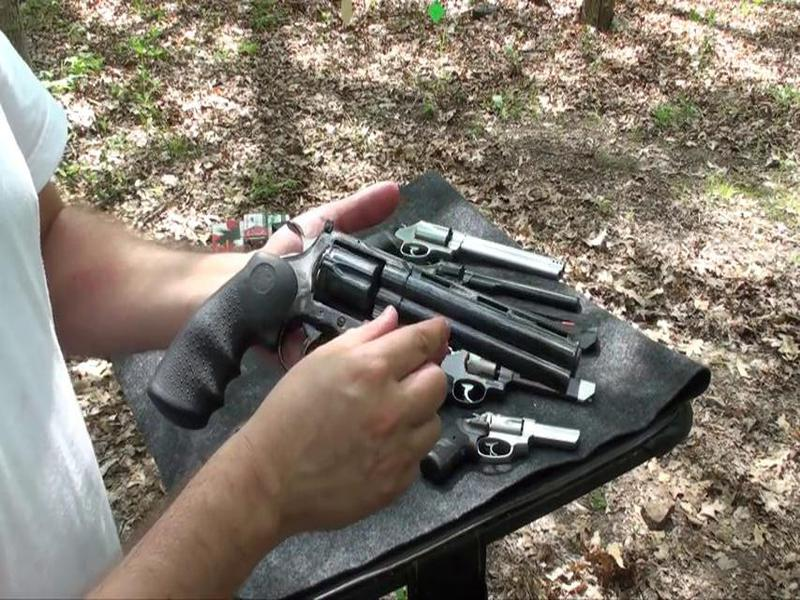Revolver: (142, 226, 602, 445)
